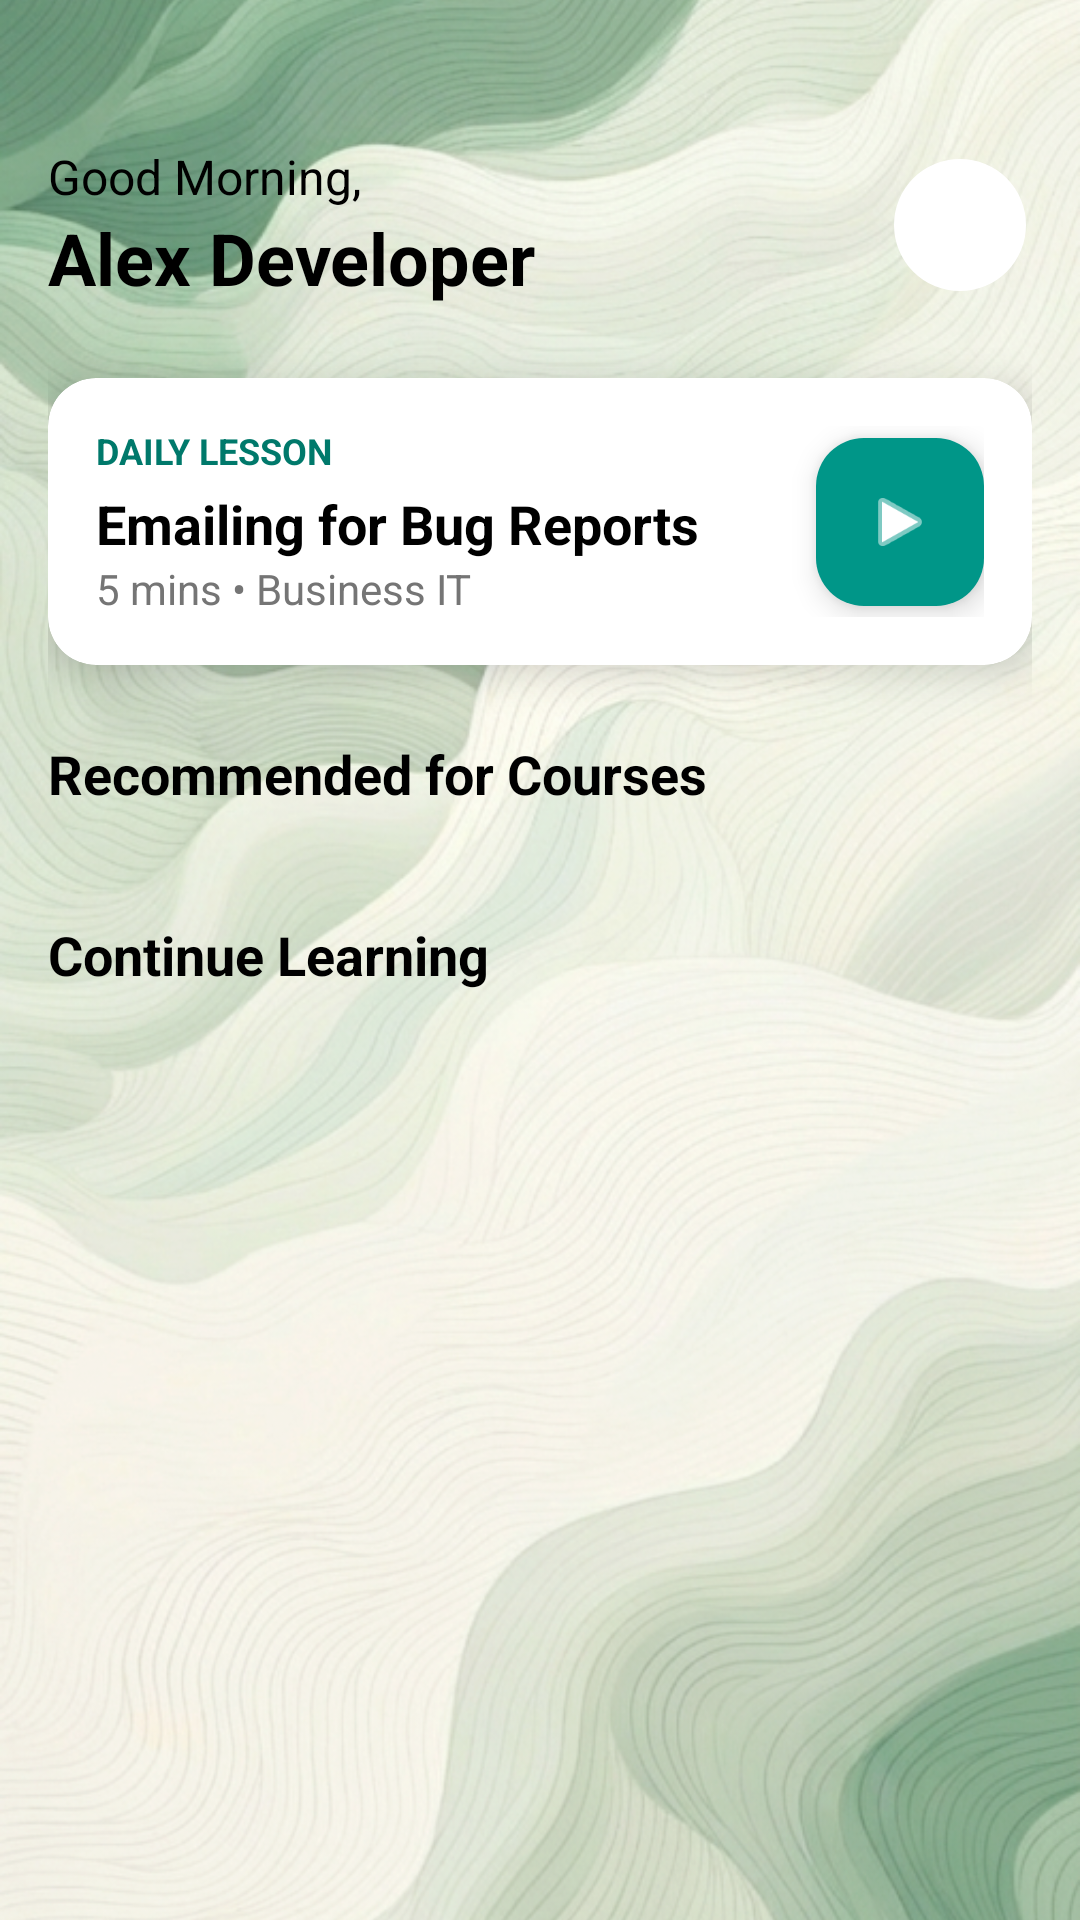

Where to tap for icons on this 1080 × 1920 app screen, as [x,y]:
play: [900,522]
